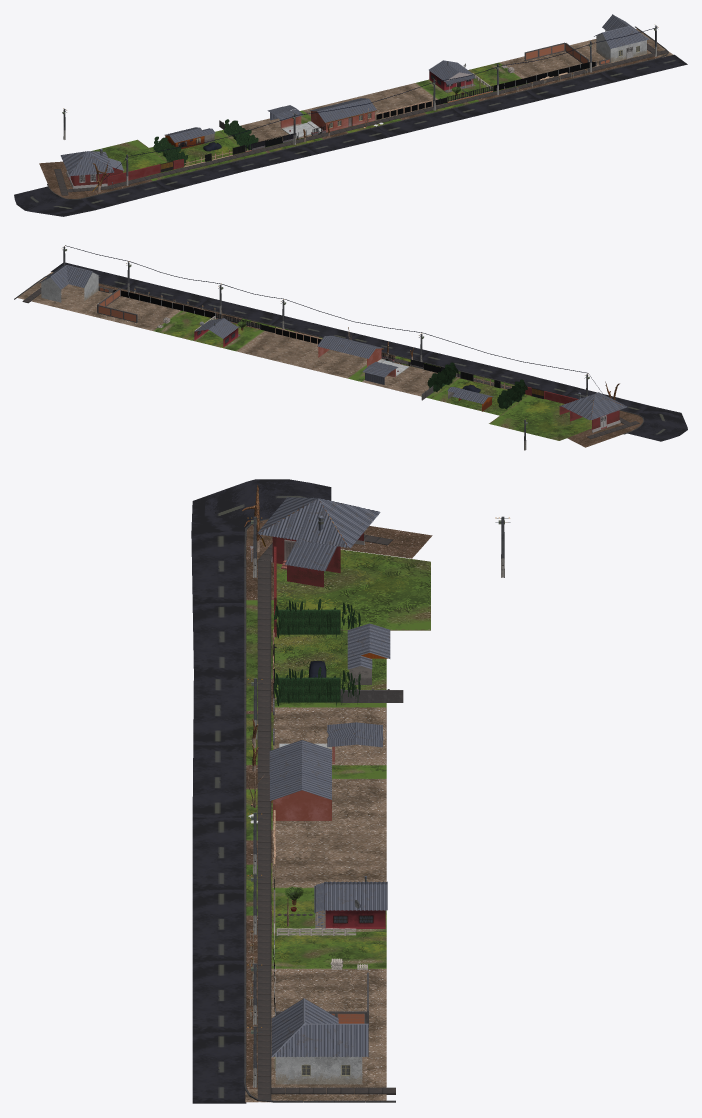
File: EscenarioIsla.fbx
The picture shows the model from 3 angles, top to bottom: view 1: azimuth 30°, elevation 25°; view 2: azimuth 150°, elevation 25°; view 3: azimuth 270°, elevation 25°; orthographic projection. The views are drawn at different scales.
Visible parts, largest first — view 1: Calle, SueloCasas, Vereda, SueloVereda, Casa5, Casa1, Casa3, VeredaEsquina, Casa4, Casa2, Casa5Muros, Cables (+9 smaller); view 2: SueloCasas, Calle, SueloVereda, Casa1, Casa5, Casa3, Vereda, Casa4, VeredaEsquina, Casa5Muros, Cables, Casa4RejaMalla (+5 smaller); view 3: SueloCasas, Calle, Vereda, SueloVereda, Casa5, Casa1, Casa3, Casa4, Arbusto, Cube.019, VeredaEsquina, Casa2 (+2 smaller).
Part boxes in pixels (x1,y1,x2,y2): Calle: (14,54,687,216); SueloCasas: (91,29,673,172); Vereda: (54,43,667,195); SueloVereda: (39,56,658,198); Casa5: (594,14,649,62); Casa1: (60,149,123,188); Casa3: (310,98,376,132); VeredaEsquina: (47,26,668,199); Casa4: (429,60,475,92); Casa2: (164,127,215,149); Casa5Muros: (524,42,610,66); Cables: (92,27,657,191); SueloCasas: (17,272,591,440); Calle: (51,262,687,441); SueloVereda: (98,283,643,447); Casa1: (559,392,627,432); Casa5: (38,265,100,302); Casa3: (317,335,383,366); Vereda: (22,274,639,439); Casa4: (194,318,240,347); VeredaEsquina: (14,274,644,434); Casa5Muros: (97,287,137,322); Cables: (65,245,602,393); Casa4RejaMalla: (113,290,215,318); SueloCasas: (245,549,430,1102); Calle: (191,479,331,1103); Vereda: (257,534,395,1100); SueloVereda: (246,519,432,1088); Casa5: (271,998,368,1084); Casa1: (257,497,380,587); Casa3: (269,740,331,820); Casa4: (314,876,387,928); Arbusto: (274,667,360,706); Cube.019: (274,599,360,638); VeredaEsquina: (244,518,395,1102); Casa2: (347,623,390,684).
Bounding box in the file's own units: 21535 × 1514 × 4651.
36 materials, 34 textured.
